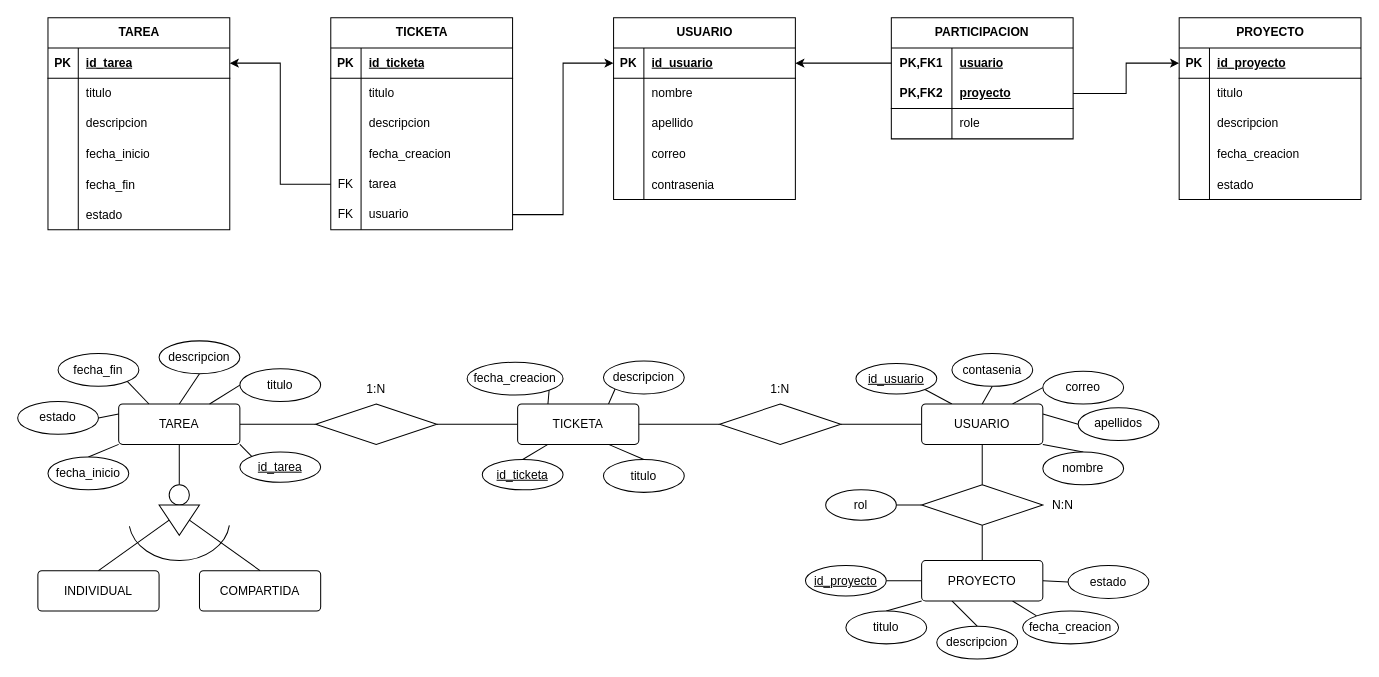
Image size: 1379x677. Some labels were removed from this diagram. The centre of each missing label's shape, as x and y in pixels:
crea: (376,423)
escribe: (780,423)
participa: (982,504)
tipo: (179,520)
